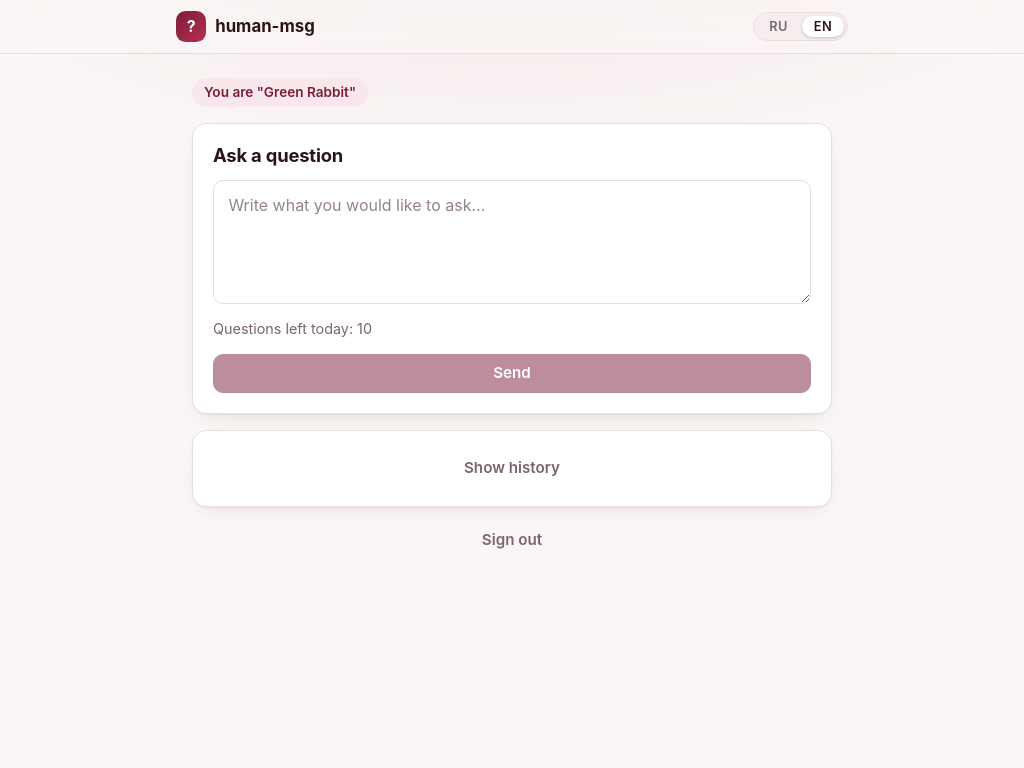
Test case: refusals are explained › explains it in English too
The width and height of the screenshot is (1024, 768).
In the text box: (512, 242) [213,180,811,304], type "One more question"
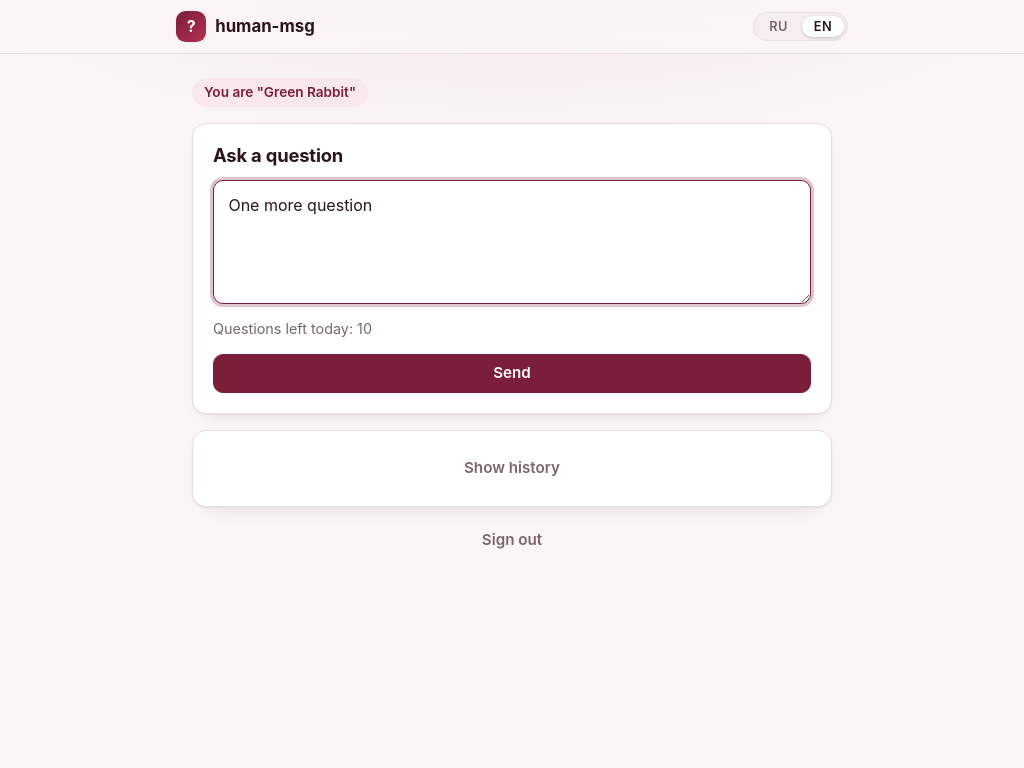
Click the button "Send": (512, 373) [213,354,811,393]
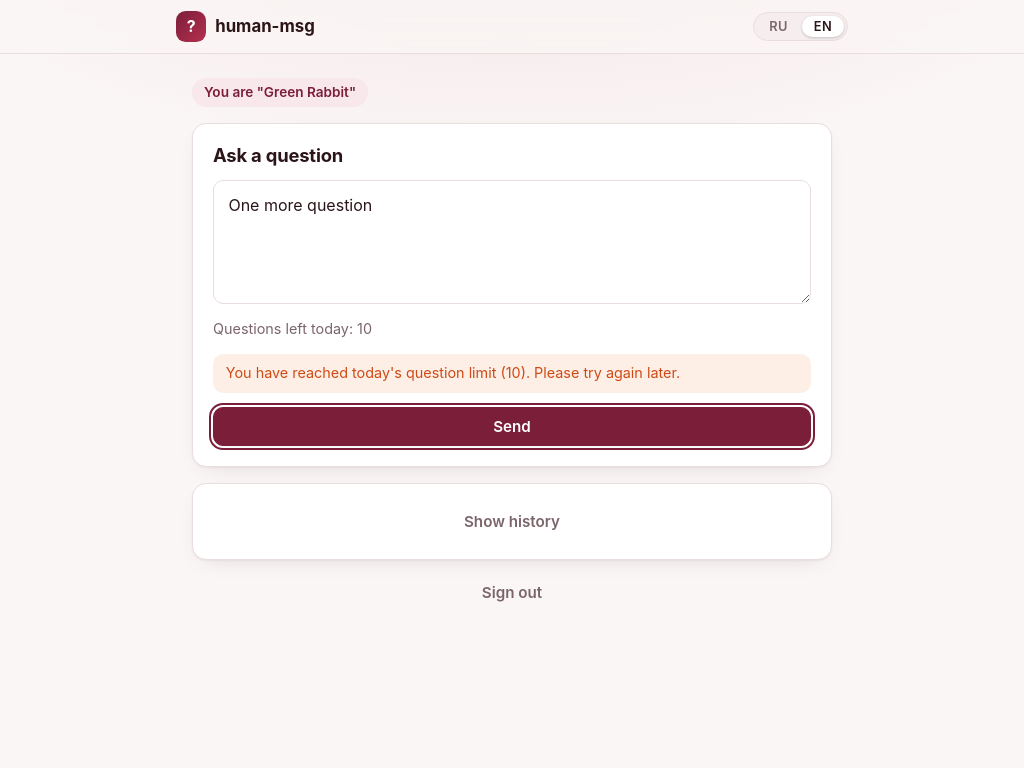
Check: the message reads "You have reached today's question limit (10). Please try again later.", box [226,364,680,381]
